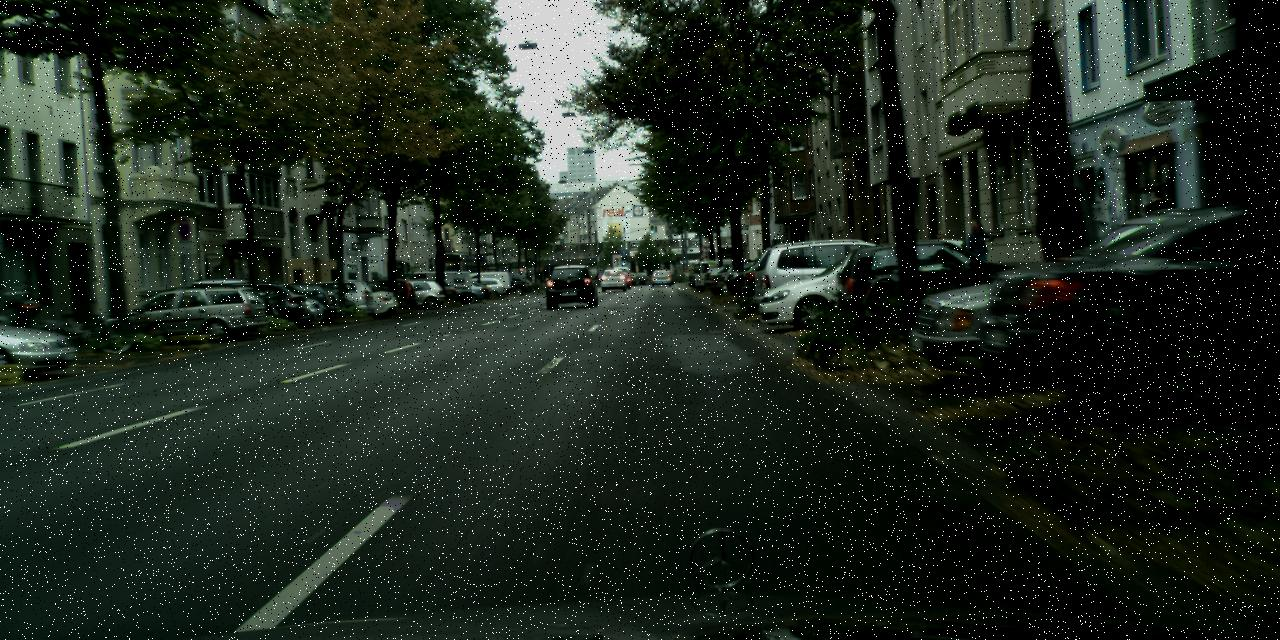ped: (1142, 185, 1180, 279), (924, 230, 955, 306), (962, 220, 992, 294)
